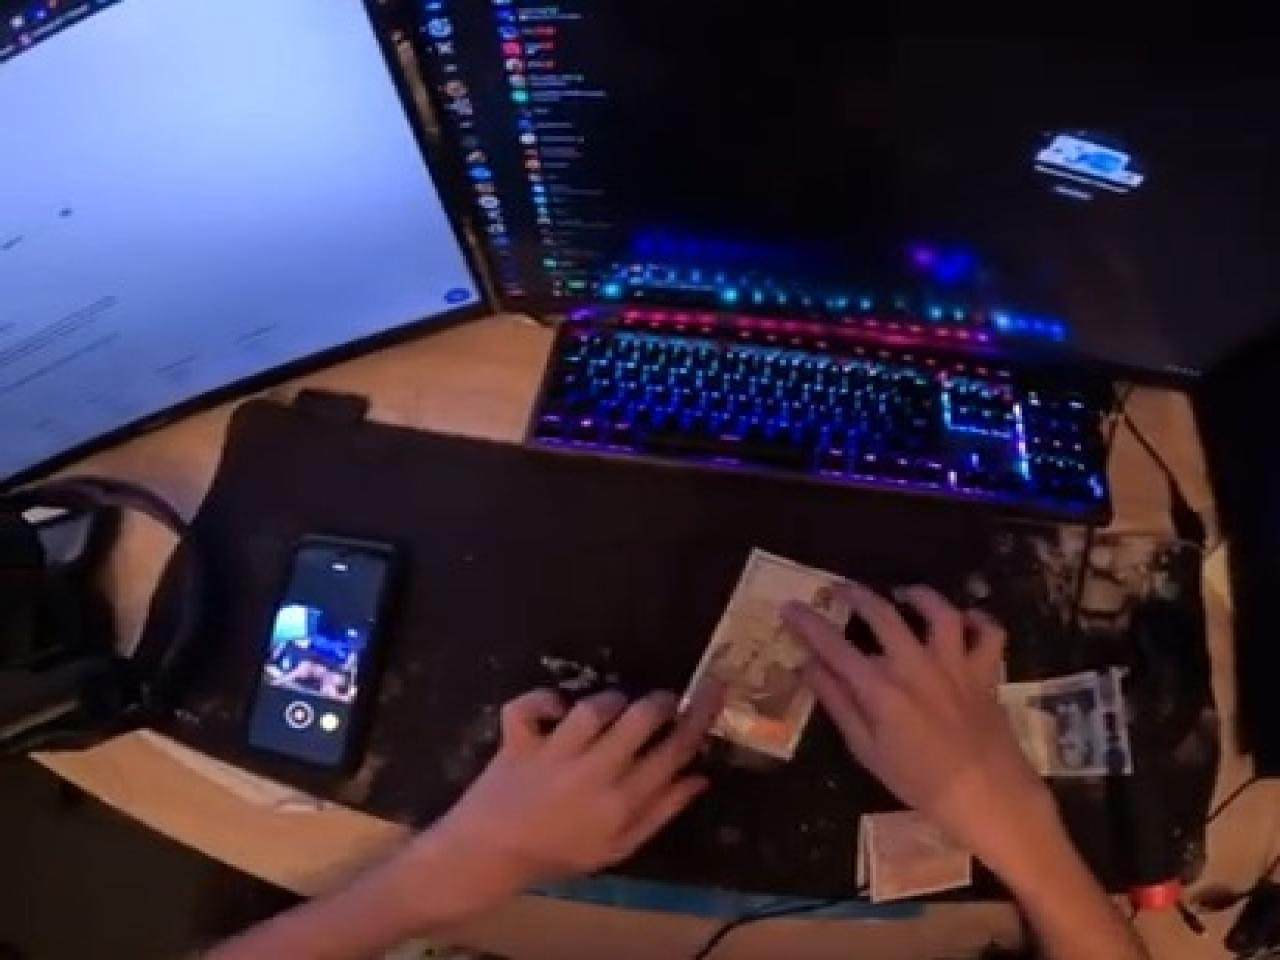50leva: (677, 552, 842, 768)
